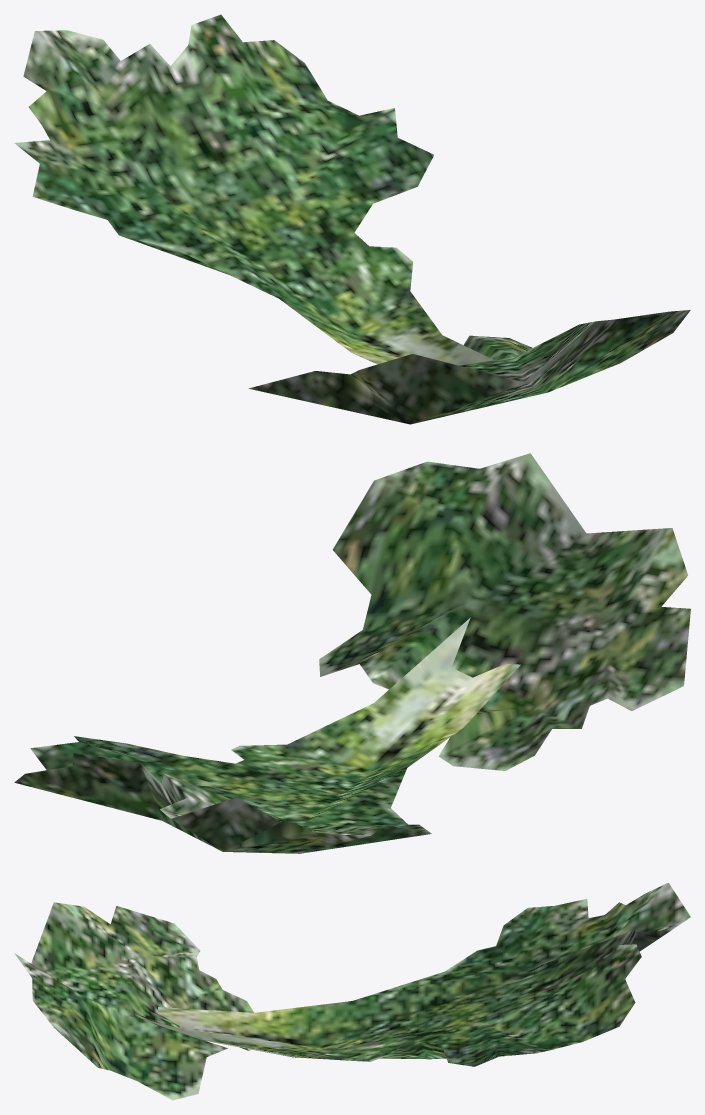
File: edb_food_vegetable_s2_l0.fbx
3 renders of one model, top to bottom at view 1: azimuth 30°, elevation 25°; view 2: azimuth 150°, elevation 25°; view 3: azimuth 270°, elevation 25°, orthographic. The views are drawn at different scales.
Visible parts, largest first — view 1: mesh_node; view 2: mesh_node; view 3: mesh_node.
Part boxes in pixels (x1,y1,x2,y2): mesh_node: [14, 14, 690, 424]; mesh_node: [14, 453, 690, 853]; mesh_node: [14, 882, 690, 1100].
Size of the model in its own units: 0.1605 by 0.0719 by 0.3174.
